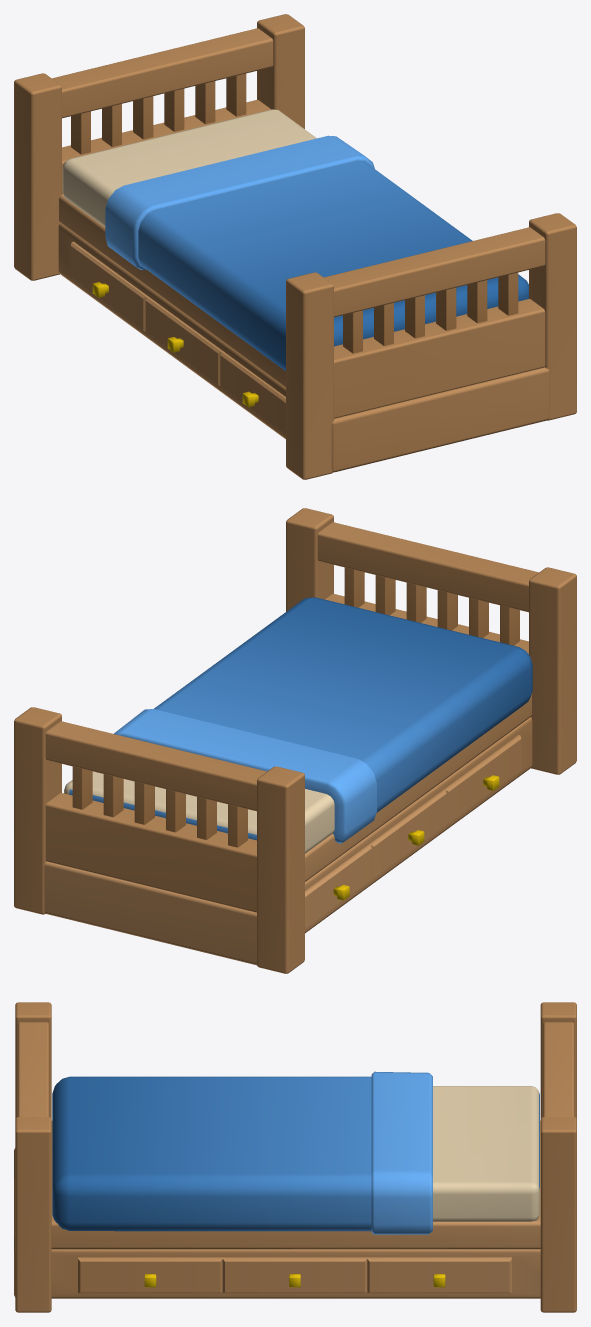
The model's file is Single Bed_13.glb.
3 views of the same model, one above another, from view 1: azimuth 30°, elevation 25°; view 2: azimuth 150°, elevation 25°; view 3: azimuth 270°, elevation 25° (orthographic). The views are drawn at different scales.
Visible parts, largest first — view 1: Single Bed_13, Single Bed_13 Door_2, Single Bed_13 Door_1, Single Bed_13 Door_3; view 2: Single Bed_13, Single Bed_13 Door_2, Single Bed_13 Door_3, Single Bed_13 Door_1; view 3: Single Bed_13, Single Bed_13 Door_2, Single Bed_13 Door_1, Single Bed_13 Door_3.
Boxes of the visible parts, x1=… form: Single Bed_13: x1=14, y1=14, x2=576, y2=479; Single Bed_13 Door_2: x1=145, y1=296, x2=222, y2=386; Single Bed_13 Door_1: x1=70, y1=241, x2=147, y2=331; Single Bed_13 Door_3: x1=220, y1=351, x2=285, y2=434; Single Bed_13: x1=14, y1=508, x2=576, y2=973; Single Bed_13 Door_2: x1=369, y1=789, x2=446, y2=879; Single Bed_13 Door_3: x1=444, y1=735, x2=521, y2=824; Single Bed_13 Door_1: x1=305, y1=844, x2=371, y2=928; Single Bed_13: x1=14, y1=1002, x2=576, y2=1312; Single Bed_13 Door_2: x1=222, y1=1257, x2=367, y2=1293; Single Bed_13 Door_1: x1=367, y1=1257, x2=511, y2=1293; Single Bed_13 Door_3: x1=78, y1=1257, x2=222, y2=1293.
Bounding box in the file's own units: 1.15 × 0.7556 × 2.11.
1 material, 1 textured.
